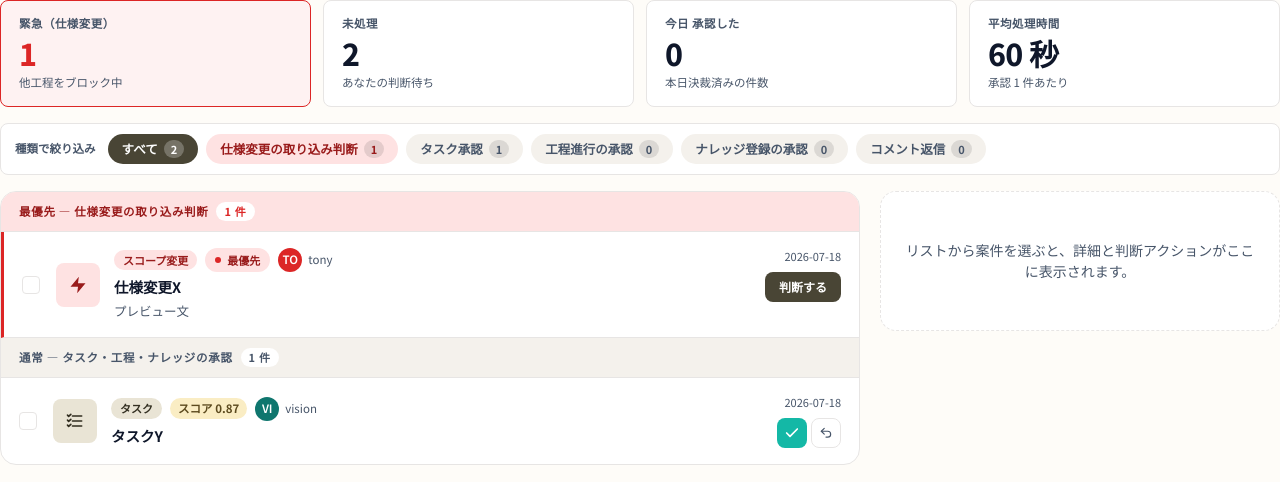
Test: S-J01 v2: KPI / チップ絞り込み / 詳細ペイン › filters the list by kind chip and shows counts
Expected: the button "仕様変更X" is shown, 114,276 -> 751,297
Click the button "タスク承認 1" at (465, 149), box 406,134 -> 523,164
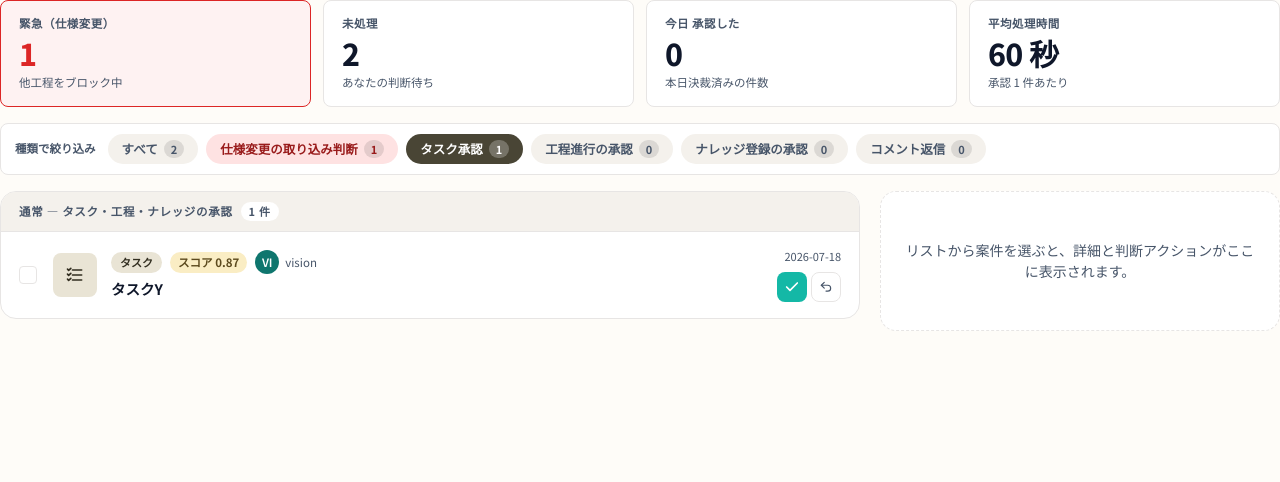
Expected: the button "タスクY" is shown, 111,278 -> 763,300
Expected: the button "仕様変更X" is gone
Click the button "すべて 2" at (153, 149), box 108,134 -> 198,164
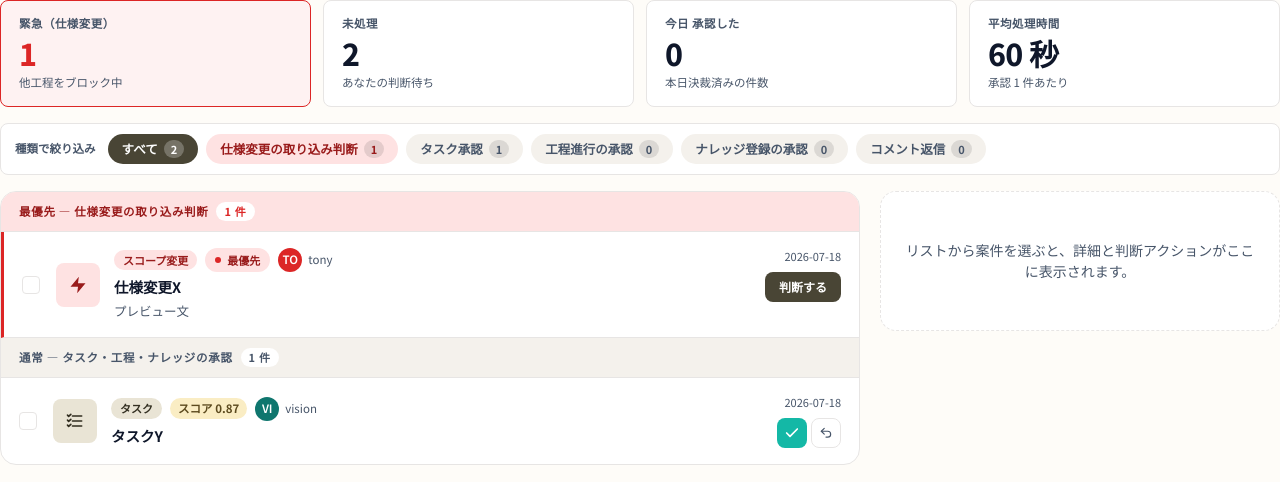
Expected: the button "仕様変更X" is shown, 114,276 -> 751,297
